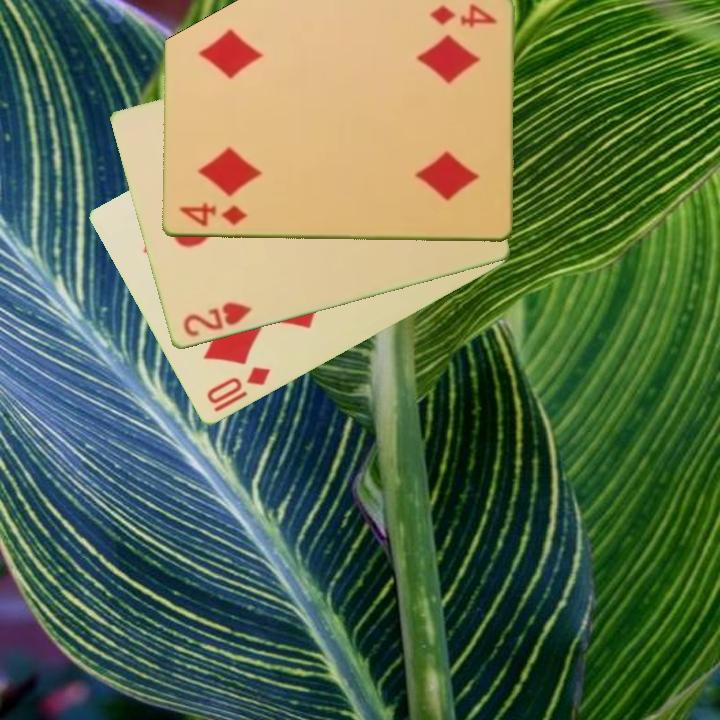10d: (203, 363, 273, 416)
2h: (179, 299, 254, 341)
4d: (175, 200, 249, 230), (425, 1, 499, 31)
